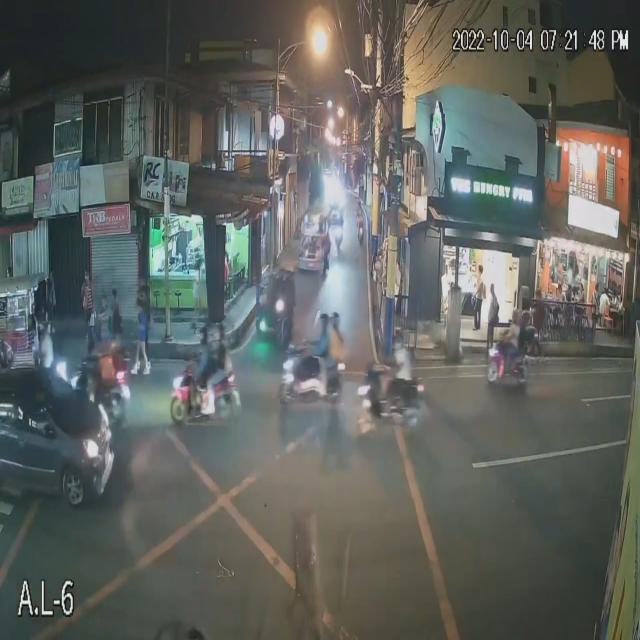Full-Faced: (389, 330, 405, 362), (316, 311, 329, 338), (195, 325, 210, 345), (212, 319, 225, 342), (329, 310, 340, 328)
